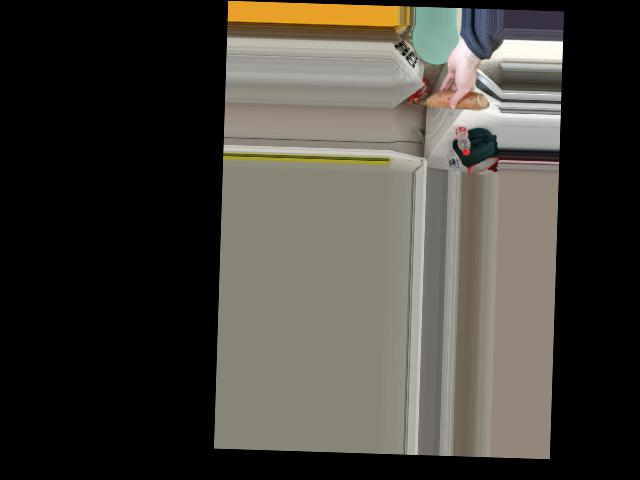sweet_potato: (423, 89, 483, 109)
